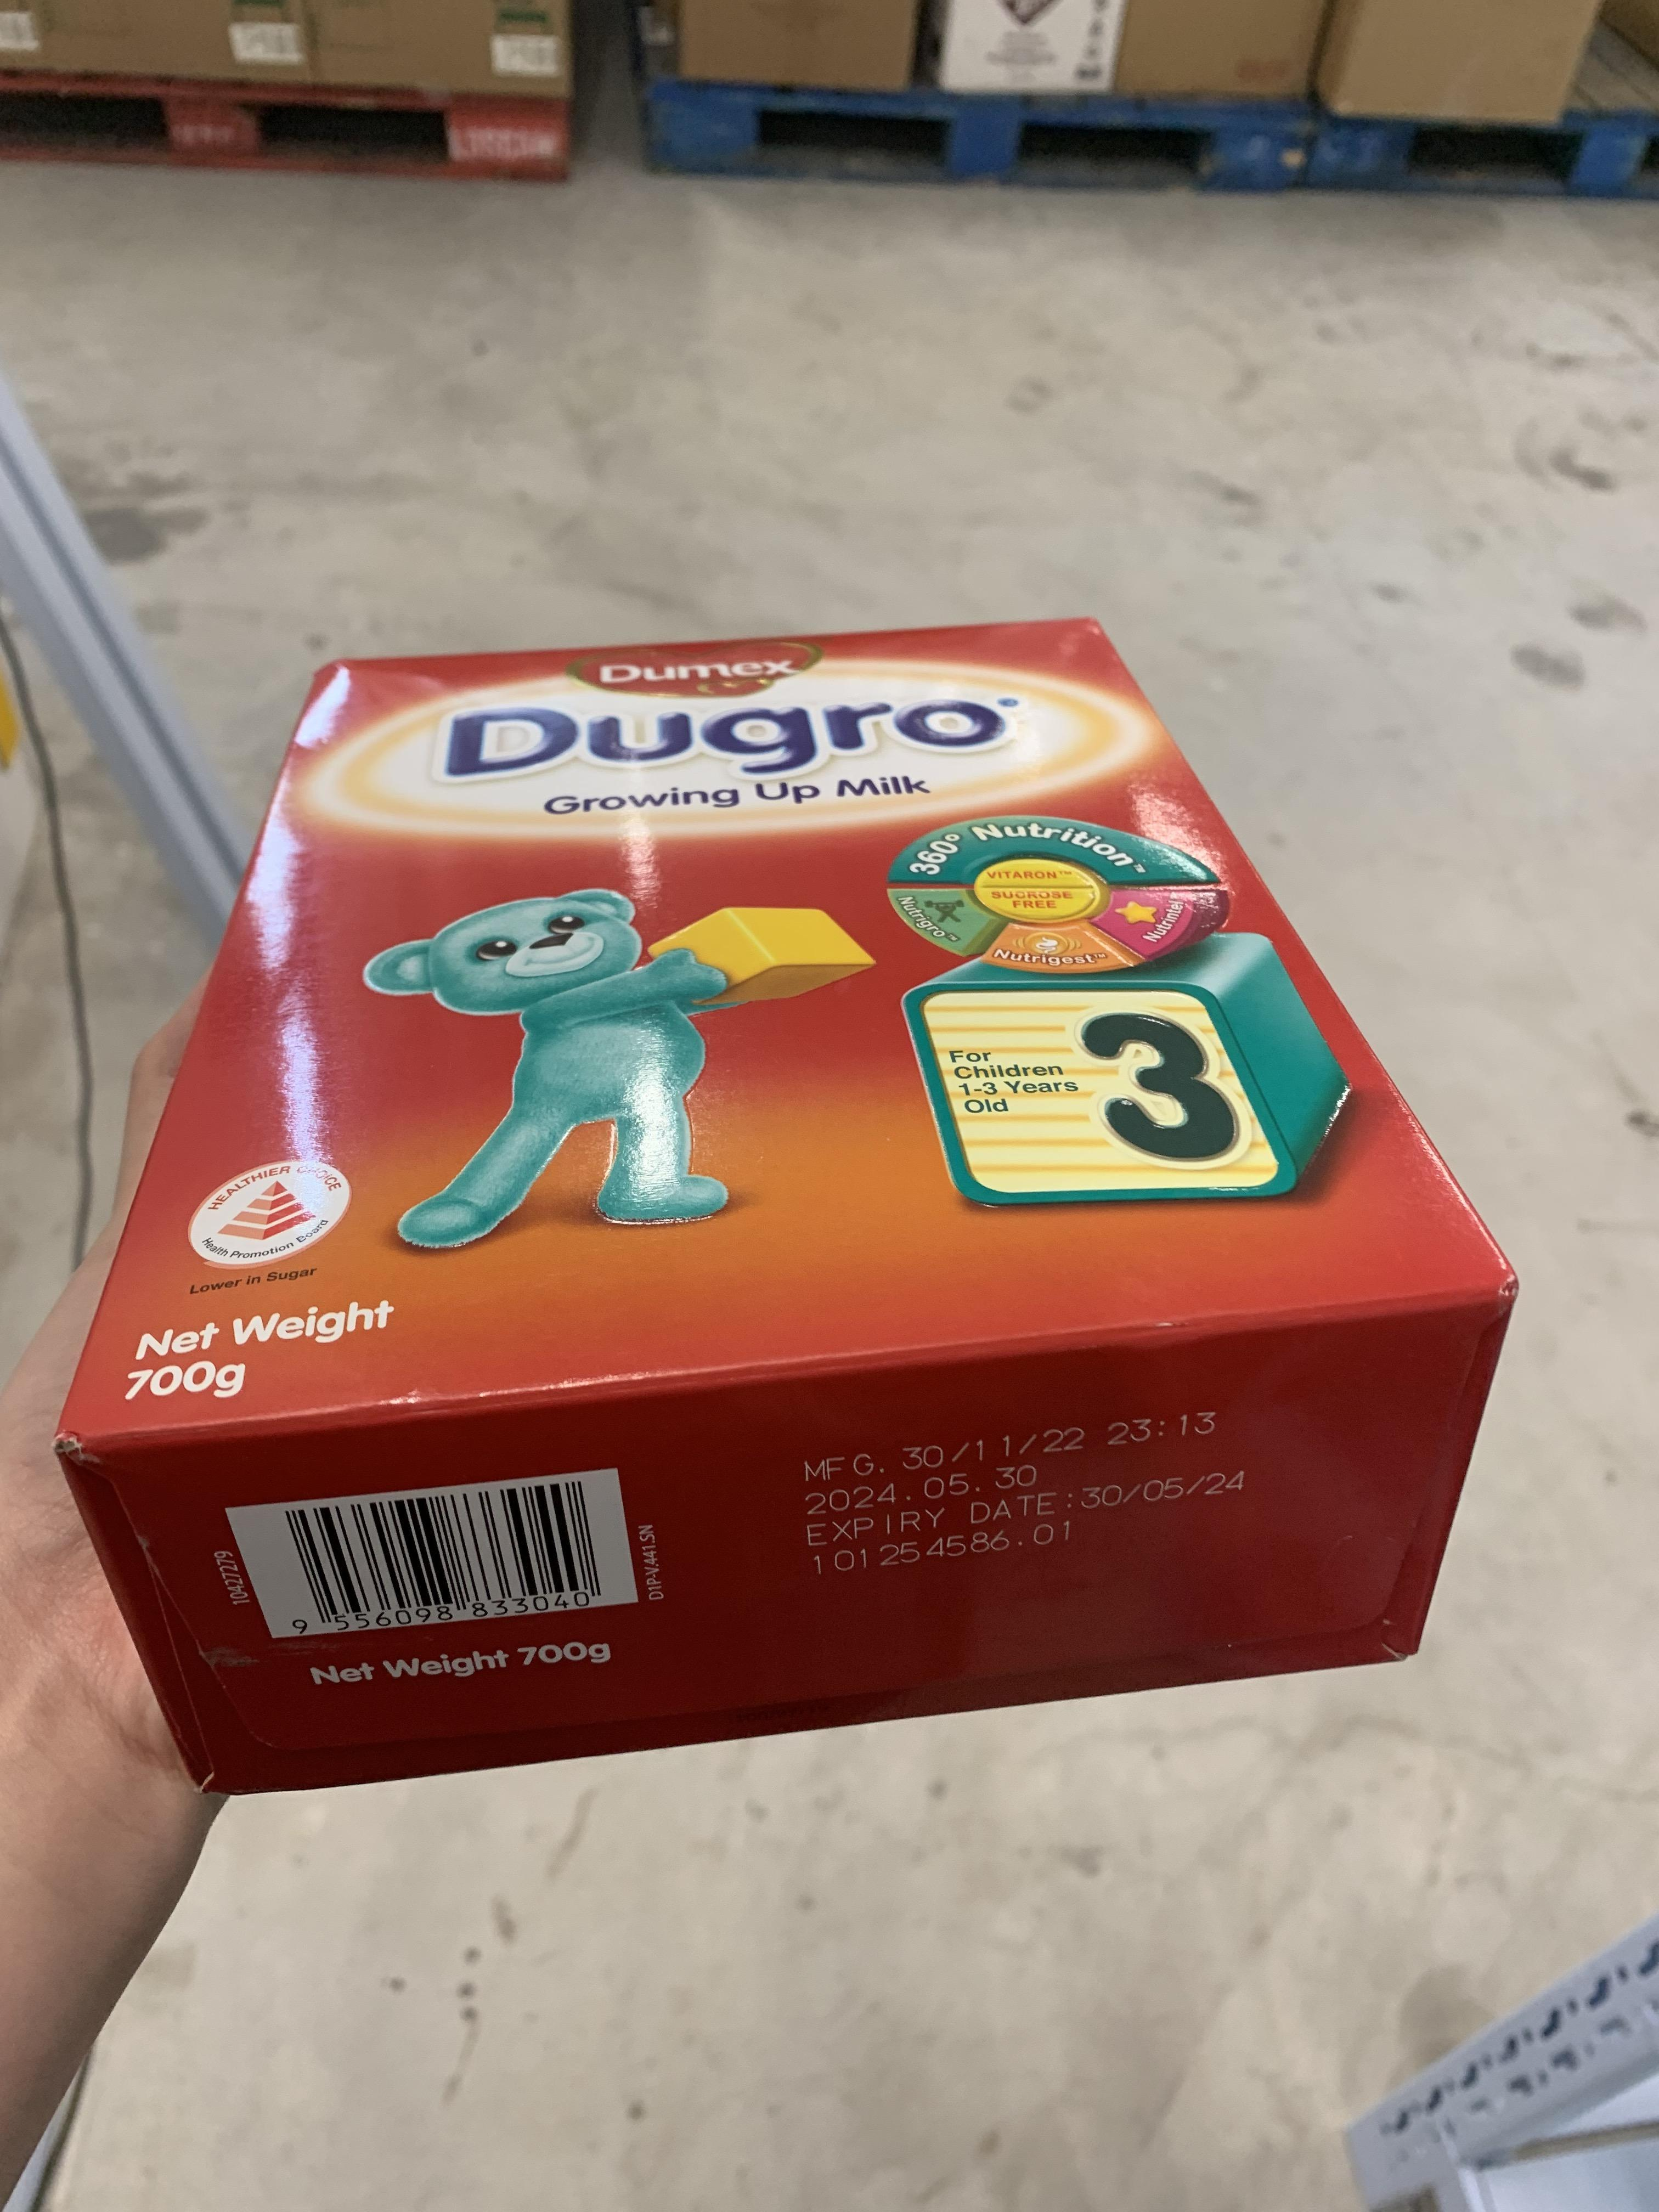object_name: (110, 603, 1399, 1672)
